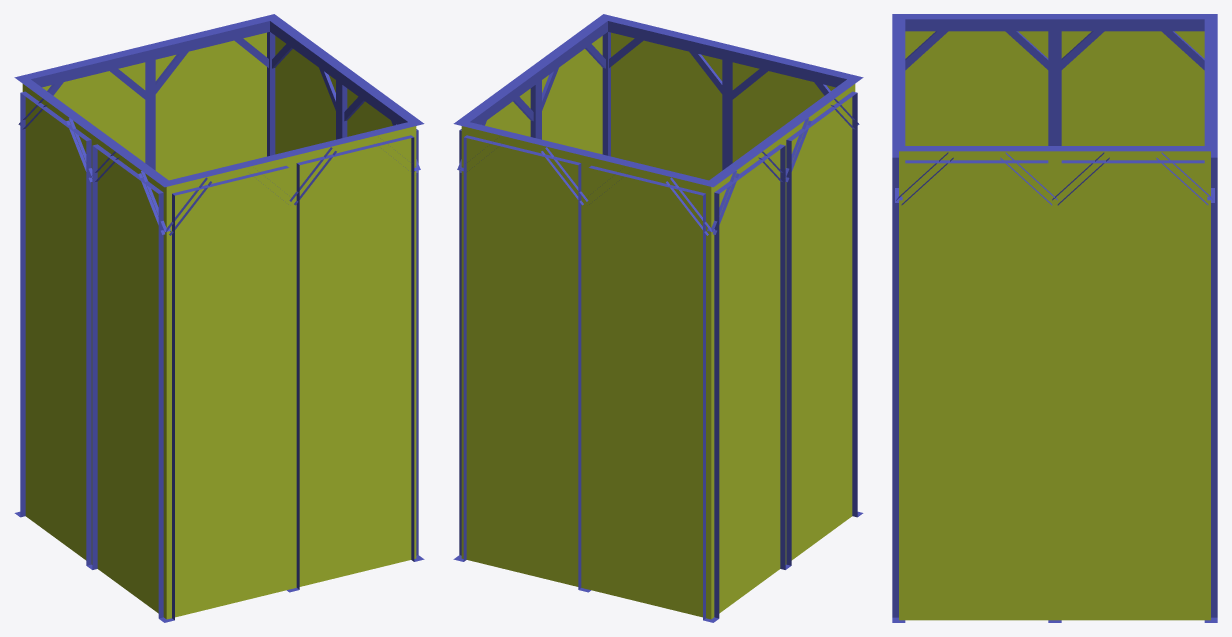
The model's file is Pit_2x2.FBX.
3 views of the same model, side by side, from view 1: azimuth 30°, elevation 25°; view 2: azimuth 150°, elevation 25°; view 3: azimuth 270°, elevation 25° (orthographic). The views are drawn at different scales.
Visible parts, largest first — view 1: Pit_2x2; view 2: Pit_2x2; view 3: Pit_2x2.
Part boxes in pixels (<box>): Pit_2x2: <box>14,14,424,622</box>; Pit_2x2: <box>453,14,863,622</box>; Pit_2x2: <box>892,14,1217,622</box>.
Size of the model in its own units: 12.5 by 20 by 12.5.
